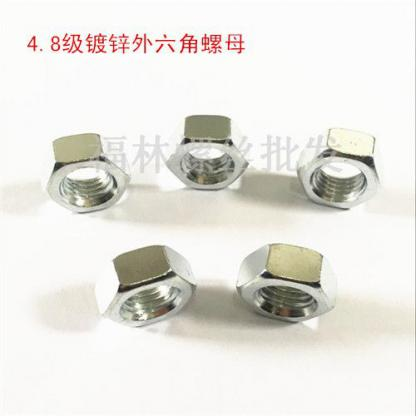FOD: (92, 243, 202, 328), (232, 242, 340, 322), (40, 131, 134, 216), (164, 112, 258, 194), (293, 127, 384, 210)
